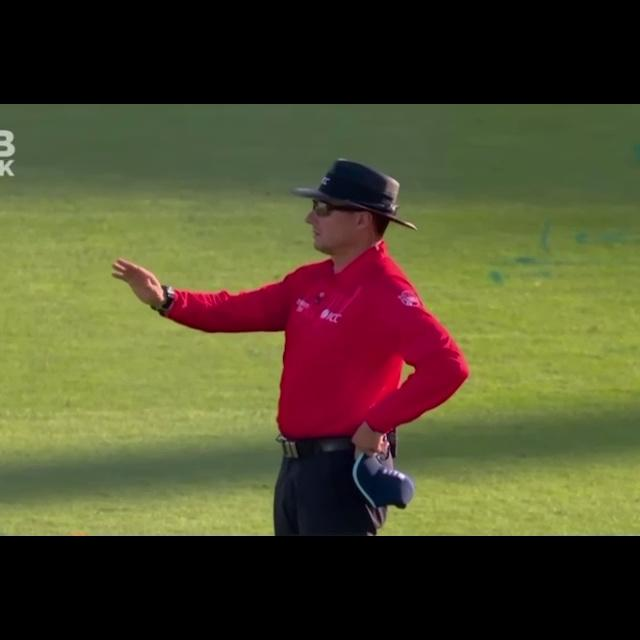umpire: (84, 143, 486, 536)
